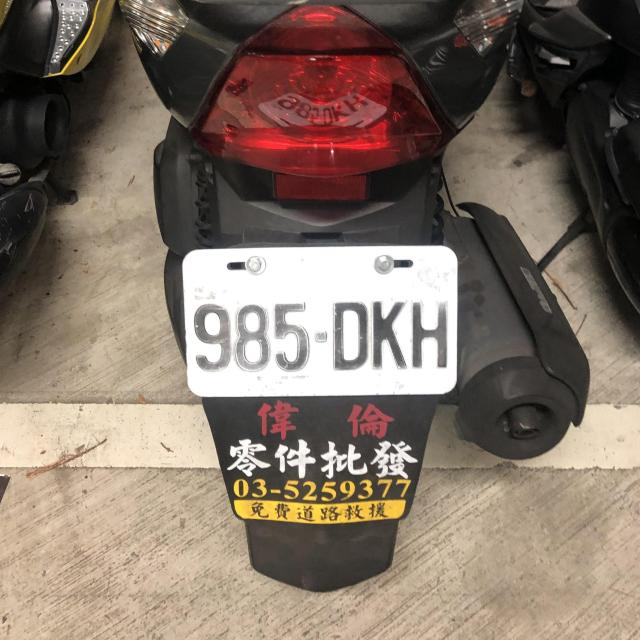W: (175, 238, 460, 404)
